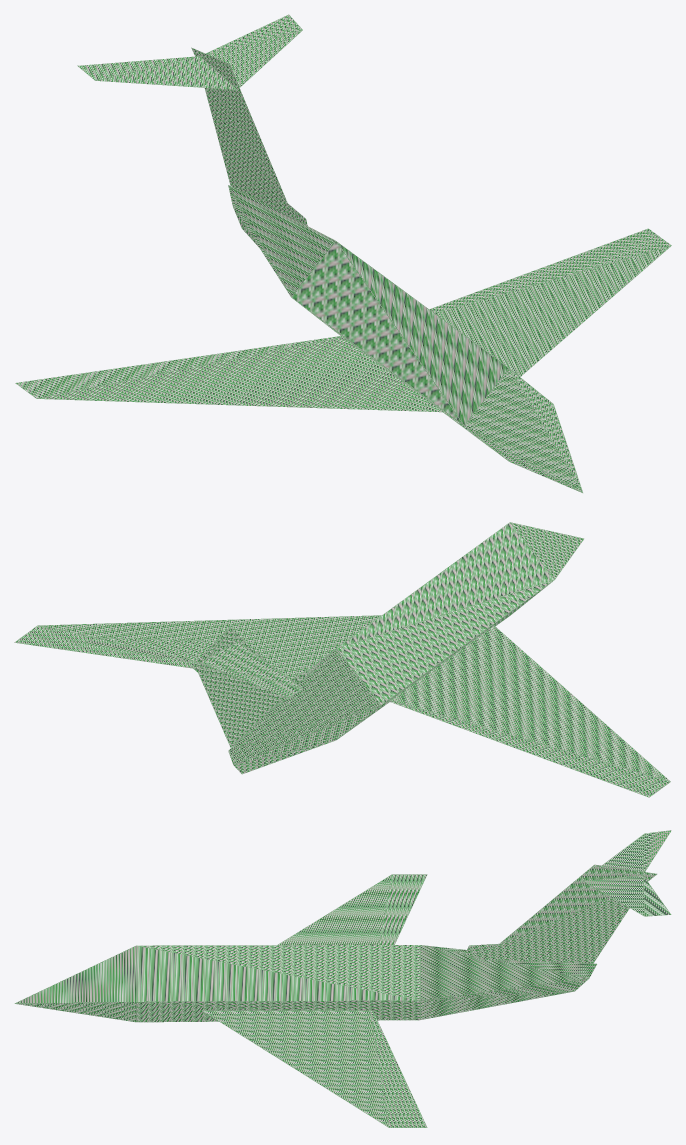
The model's file is JBAI Challenger 601 Stubtail MSFS_LOD1.gltf.
The picture shows the model from 3 angles, top to bottom: view 1: azimuth 30°, elevation 25°; view 2: azimuth 150°, elevation 25°; view 3: azimuth 270°, elevation 25°; orthographic projection. The views are drawn at different scales.
Parts seen in each view (by area): view 1: node1; view 2: node1; view 3: node1.
Boxes of the visible parts, x1,y1,x2,y2 form: node1: [15, 14, 671, 492]; node1: [14, 522, 670, 797]; node1: [14, 830, 671, 1127].
Size of the model in its own units: 18.8 by 5.47 by 20.57.
